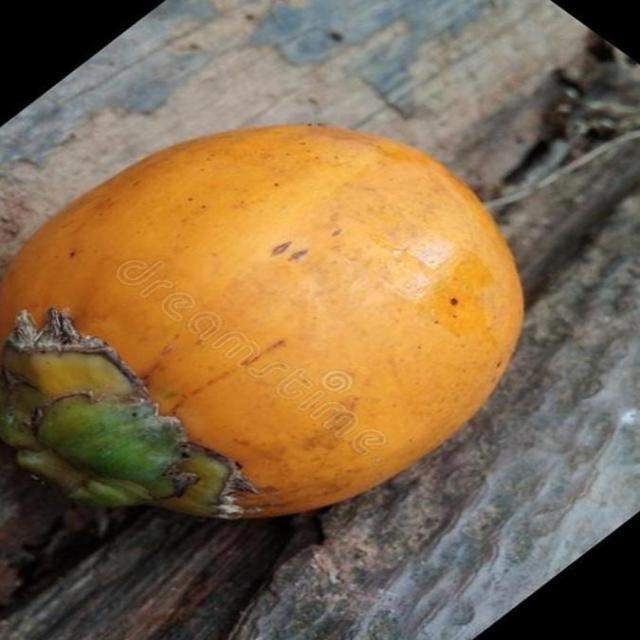good: (0, 122, 527, 524)
